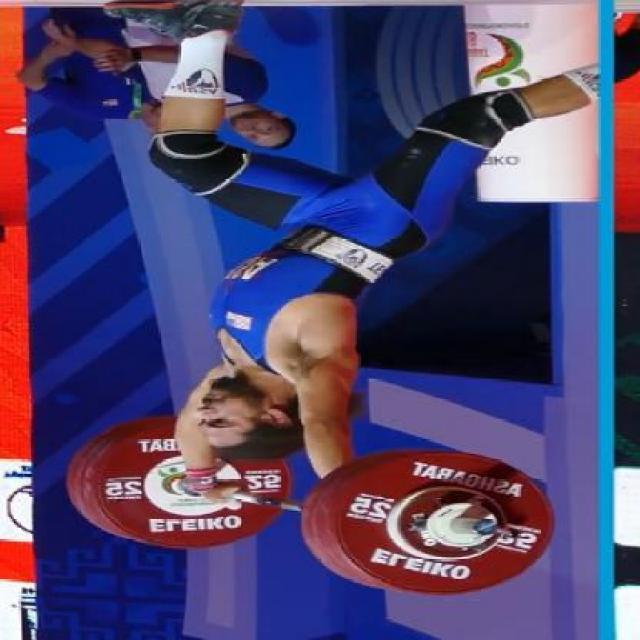Barbell: (416, 495, 521, 559)
